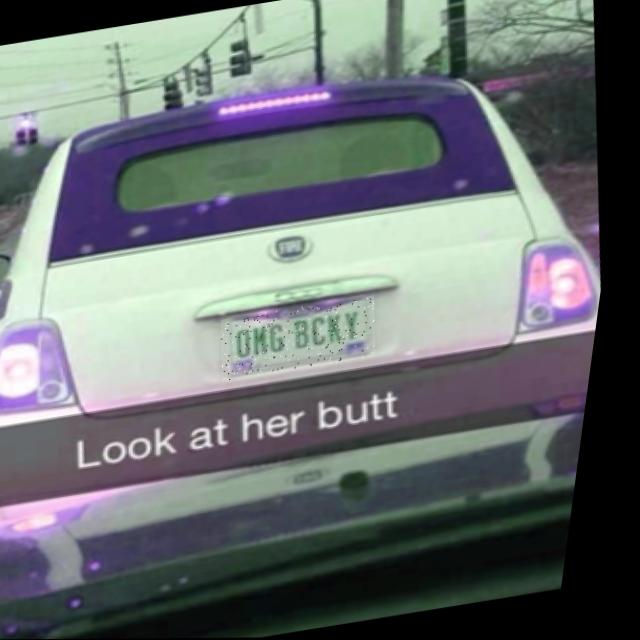license_plate: (223, 296, 392, 381)
